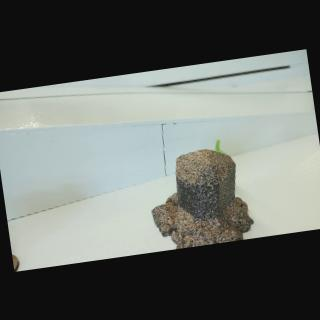teletubby: (215, 139, 226, 154)
